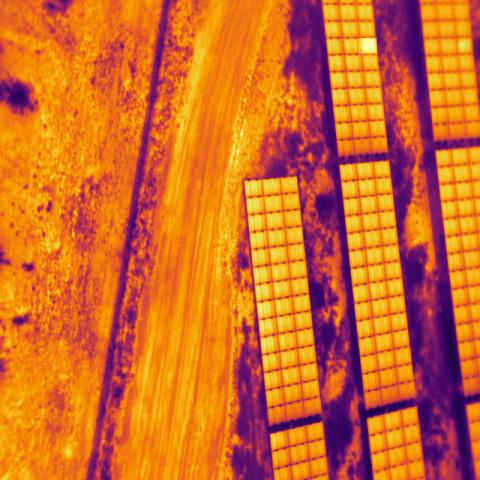fault: (456, 36, 475, 56), (359, 38, 377, 54)
